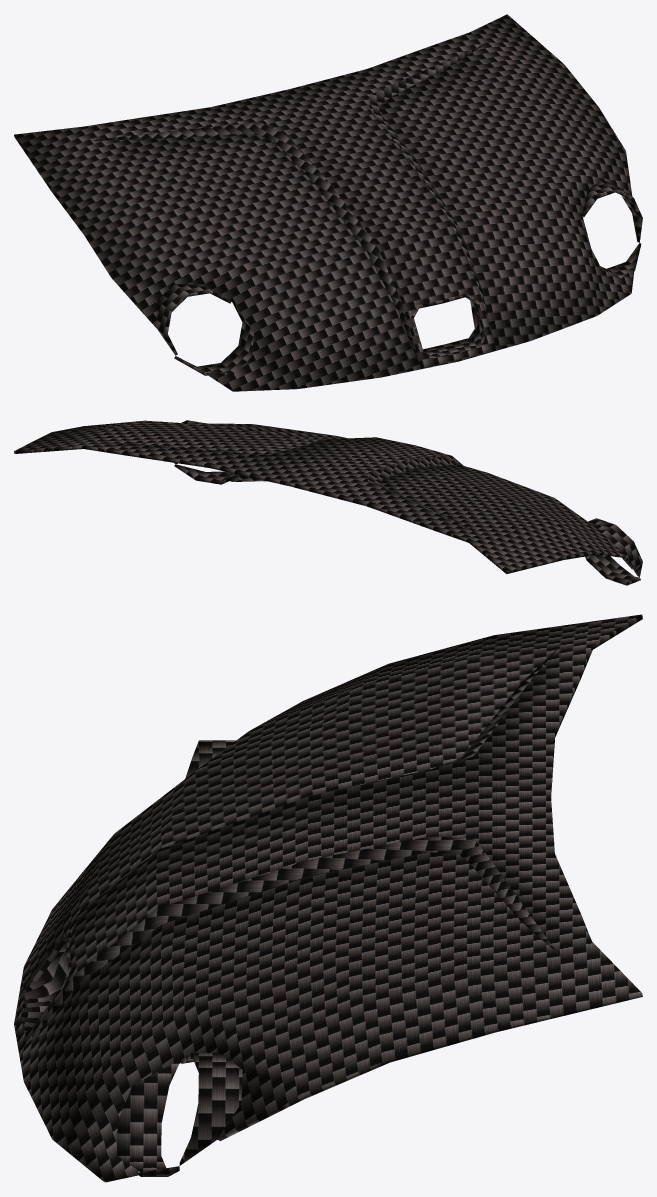
Rendered from Car3CarbonPart.fbx.
The picture shows the model from 3 angles, top to bottom: view 1: azimuth 30°, elevation 25°; view 2: azimuth 150°, elevation 25°; view 3: azimuth 270°, elevation 25°; orthographic projection. The views are drawn at different scales.
Visible parts, largest first — view 1: CarbonPart; view 2: CarbonPart; view 3: CarbonPart.
Boxes of the visible parts, box(x1,y1,x2,y2) form: CarbonPart: box(14, 14, 642, 391); CarbonPart: box(14, 420, 642, 585); CarbonPart: box(14, 614, 642, 1182).
Bounding box in the file's own units: 1.96 × 0.5483 × 1.32.
Materials: 1 (1 with a texture image).
